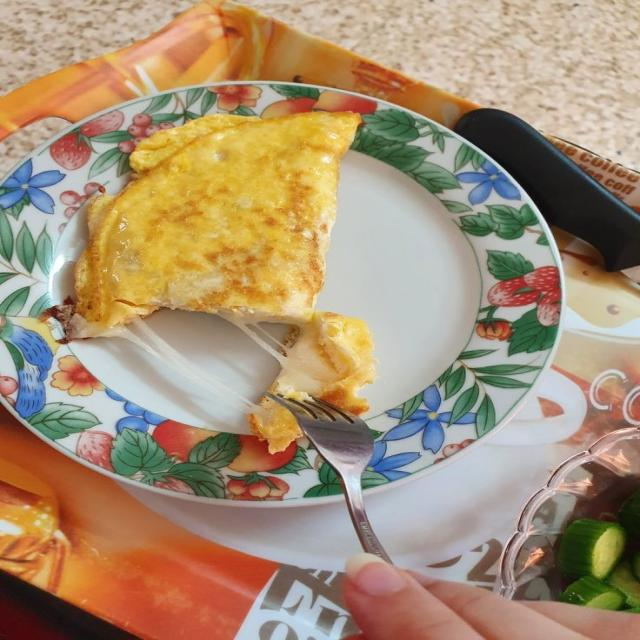omelette: (67, 112, 374, 413), (75, 112, 359, 336), (270, 312, 375, 414)
